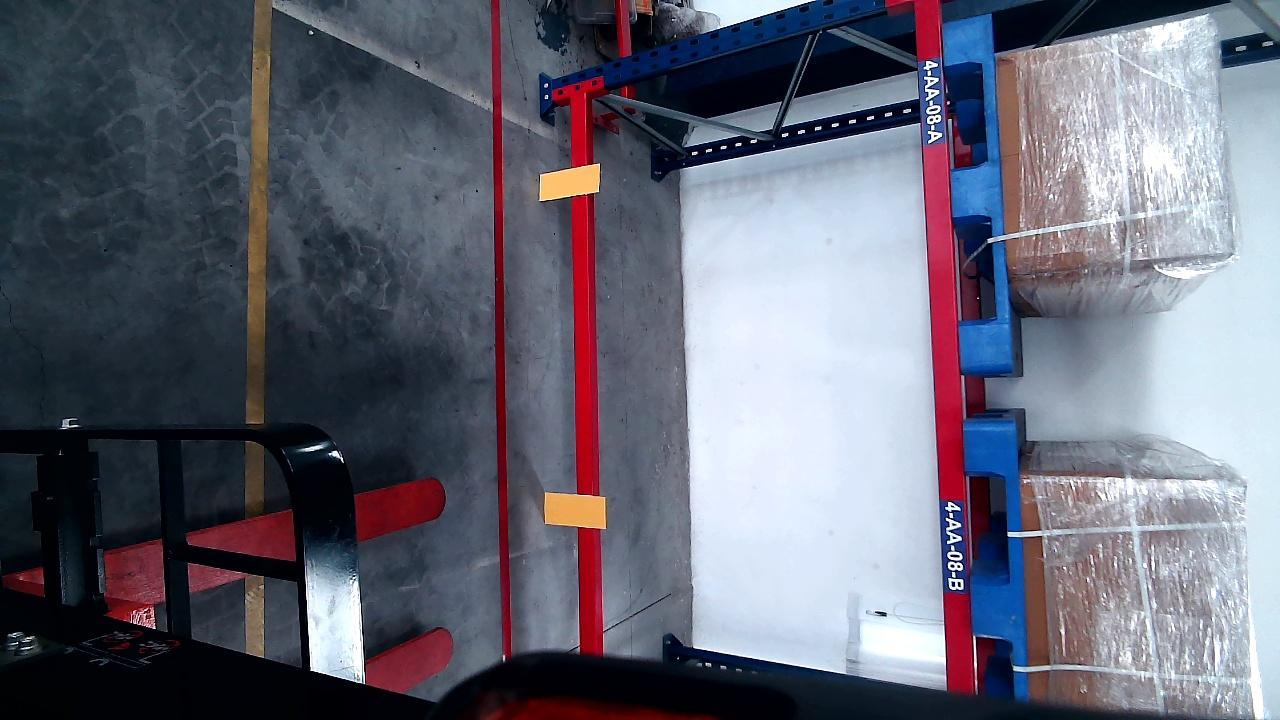red_line: (489, 0, 507, 665)
yellow_line: (243, 0, 272, 418)
